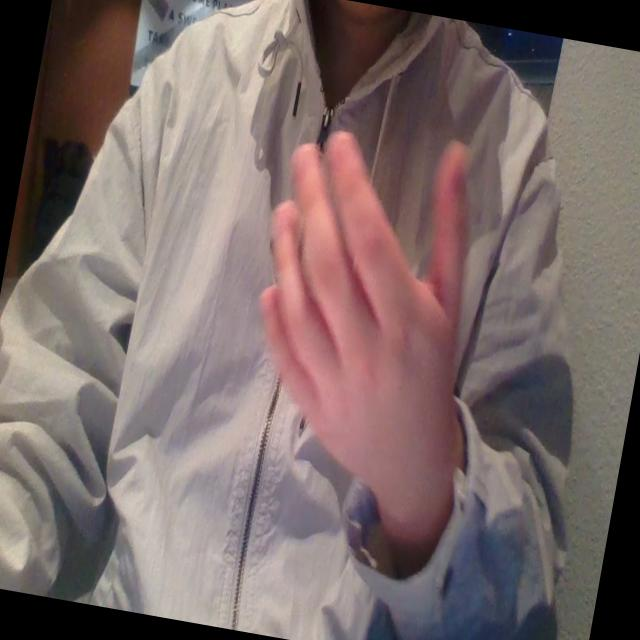hand: (223, 106, 506, 510)
